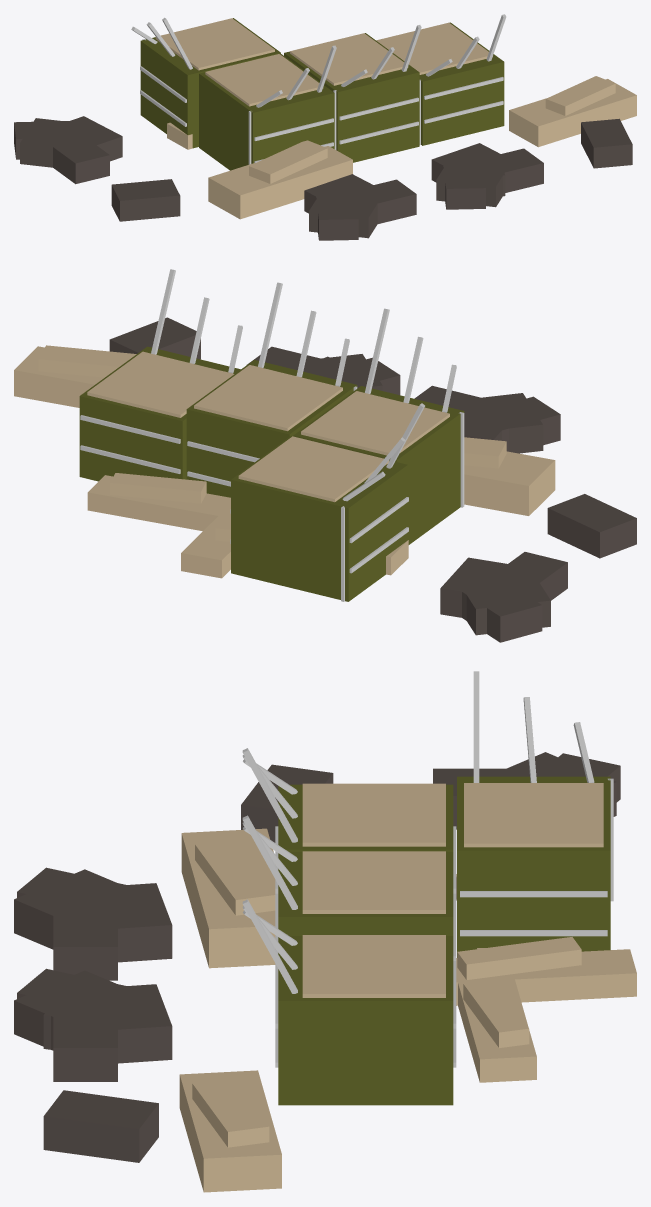
Rendered from SM_HescoRemate_v1_Geotextil_e2_MuyDanado_LOD0.fbx.
3 renders of one model, top to bottom at view 1: azimuth 30°, elevation 25°; view 2: azimuth 150°, elevation 25°; view 3: azimuth 270°, elevation 25°, orthographic. The views are drawn at different scales.
Parts seen in each view (by area): view 1: SM_hesco_piezas_v26_LOD0; view 2: SM_hesco_piezas_v26_LOD0; view 3: SM_hesco_piezas_v26_LOD0.
Part boxes in pixels (<box>): SM_hesco_piezas_v26_LOD0: <box>14,14,636,240</box>; SM_hesco_piezas_v26_LOD0: <box>14,269,636,642</box>; SM_hesco_piezas_v26_LOD0: <box>14,671,636,1192</box>.
Bounding box in the file's own units: 6.71 × 1.64 × 4.34.
